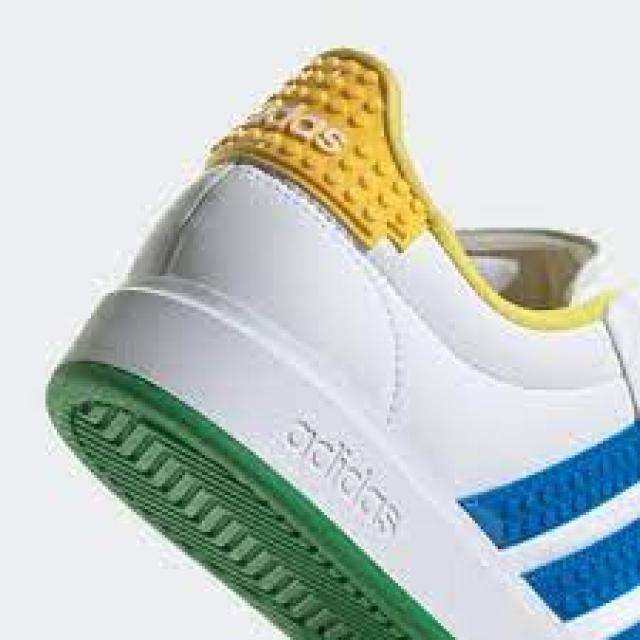shoe: (3, 1, 640, 640), (41, 43, 634, 635)
